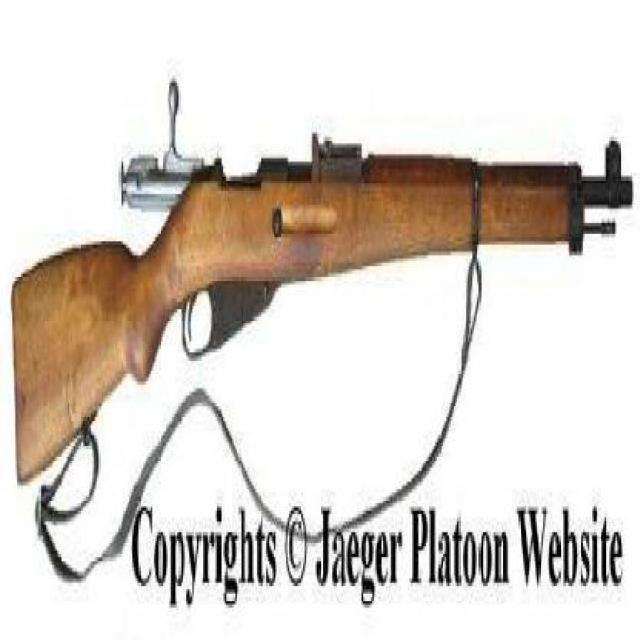weapon: (15, 141, 632, 476)
